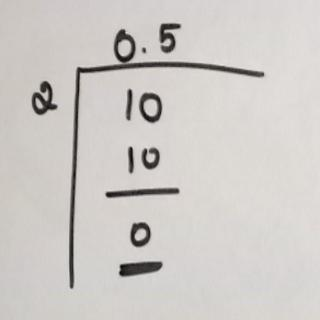.: (136, 44, 150, 56)
0: (112, 27, 140, 62), (139, 87, 164, 123), (127, 219, 152, 248), (142, 145, 163, 165)
1: (125, 87, 134, 120), (127, 142, 136, 175)
2: (27, 81, 58, 119)
5: (157, 20, 183, 53)
